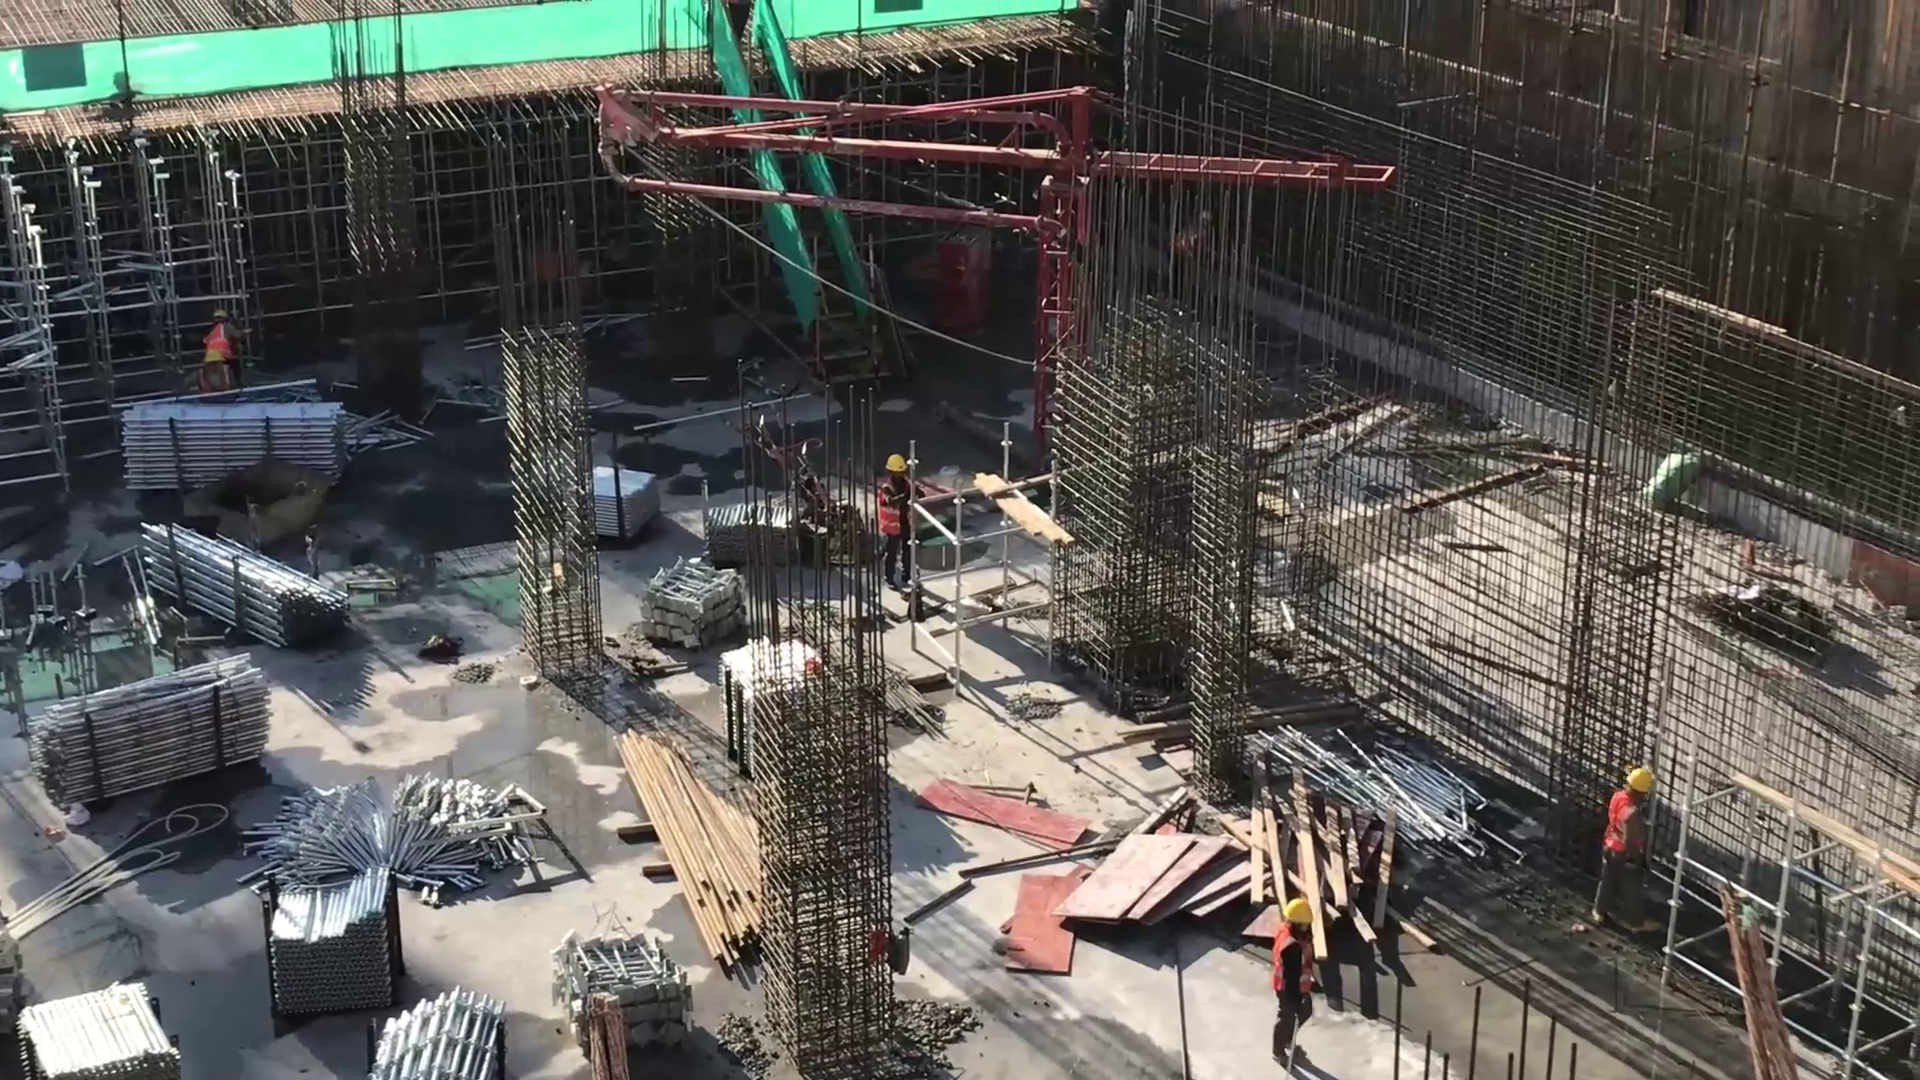board: (1074, 830, 1254, 927)
helmet: (1283, 898, 1315, 924), (1624, 770, 1654, 790), (886, 453, 903, 470), (203, 349, 223, 363)
person: (1262, 892, 1324, 1073), (1600, 761, 1658, 930), (879, 448, 917, 595), (197, 307, 244, 395)
scaffold: (36, 651, 265, 808), (154, 520, 331, 643), (270, 860, 411, 1012), (120, 393, 348, 483), (1289, 738, 1475, 846), (21, 992, 164, 1080), (370, 993, 511, 1076), (597, 464, 661, 543), (704, 499, 744, 568)
vest: (1276, 932, 1317, 995), (1606, 793, 1645, 851), (881, 478, 914, 539)
wood: (617, 727, 769, 949), (1250, 797, 1412, 953)
